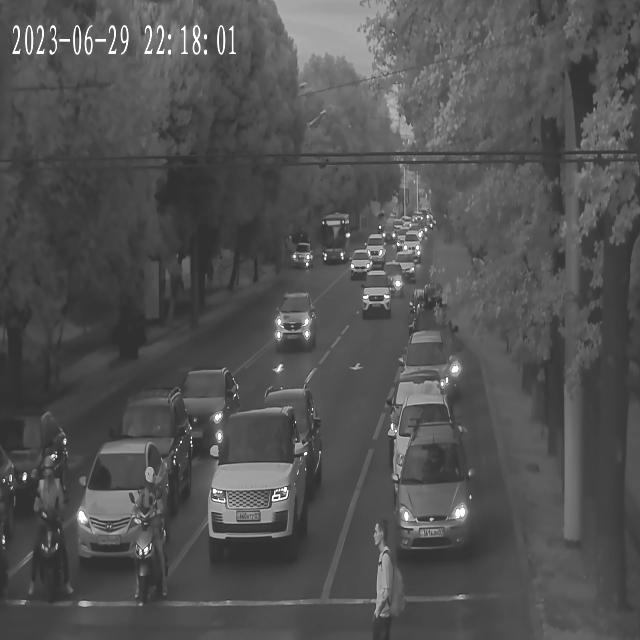Bus: (319, 212, 354, 268)
Car: (207, 406, 304, 559), (394, 422, 476, 574), (78, 446, 168, 565), (112, 394, 193, 524), (253, 389, 320, 513), (0, 410, 68, 514), (385, 386, 457, 479), (170, 367, 240, 460), (398, 332, 452, 420), (272, 294, 317, 354), (364, 270, 391, 319), (383, 265, 406, 300), (348, 249, 372, 280), (292, 240, 315, 272), (399, 252, 419, 283), (367, 235, 385, 262), (403, 233, 419, 258), (393, 232, 407, 254)
